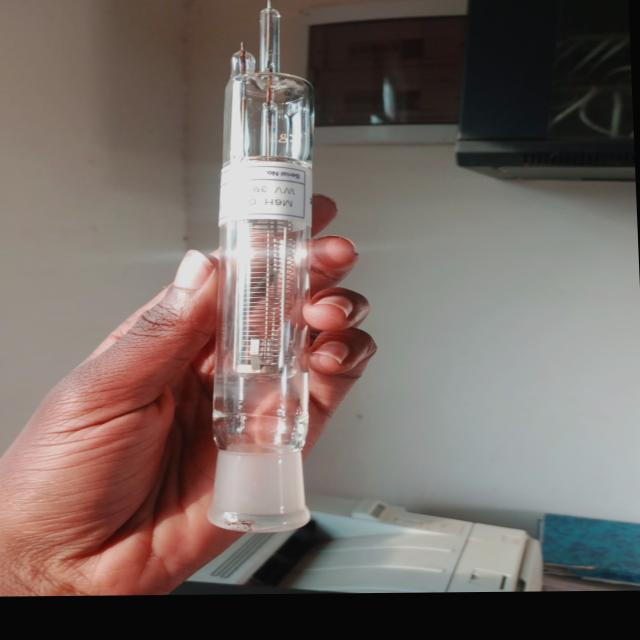Helium Lamp: (198, 0, 322, 531)
